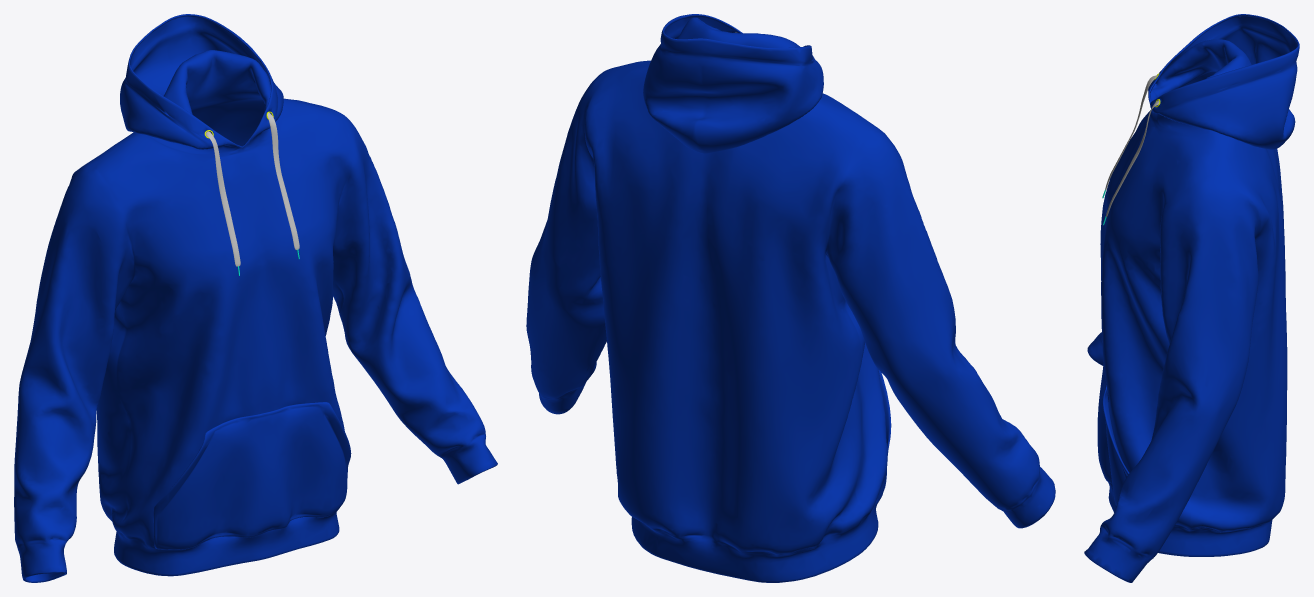
File: ong_coracao_solidario.glb
3 renders of one model, left to right at view 1: azimuth 30°, elevation 25°; view 2: azimuth 150°, elevation 25°; view 3: azimuth 270°, elevation 25°, orthographic. The views are drawn at different scales.
Parts seen in each view (by area): view 1: Object_2, Object_4; view 2: Object_2; view 3: Object_2, Object_4.
Part boxes in pixels (x1,y1,x2,y2): Object_2: (14, 14, 497, 582); Object_4: (205, 112, 299, 266); Object_2: (526, 14, 1055, 582); Object_2: (1084, 14, 1299, 582); Object_4: (1105, 75, 1159, 216).
Bounding box in the file's own units: 774 × 787 × 315.
